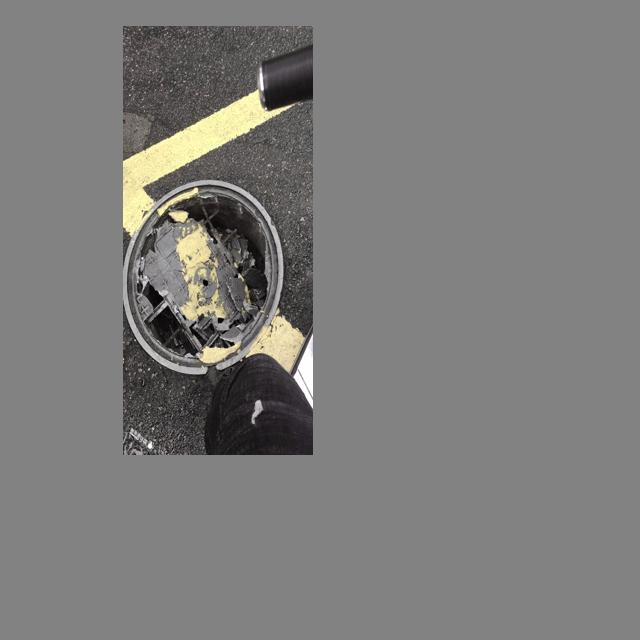broke: (131, 165, 292, 372)
